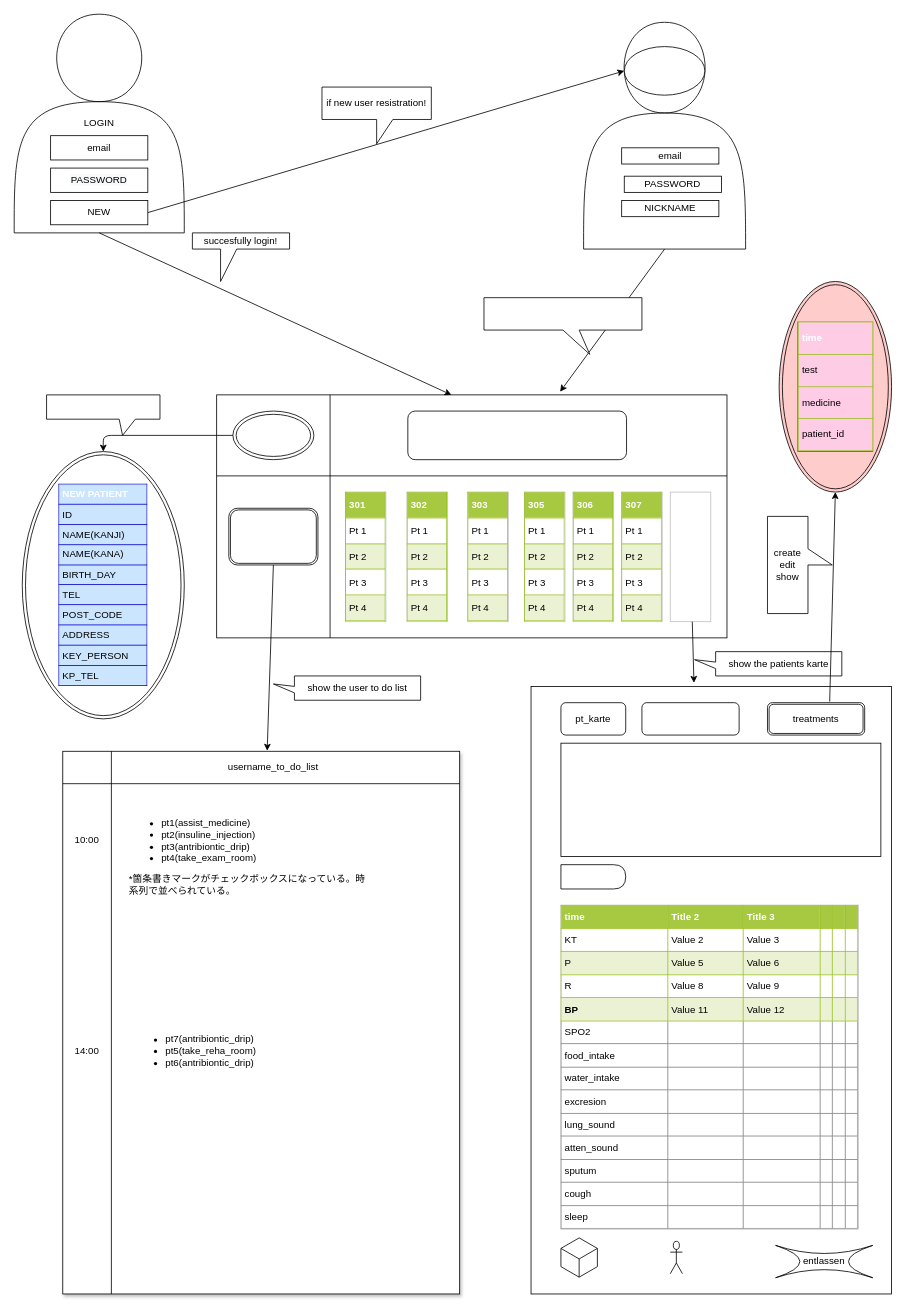
This 906x1314 diagram has some shape labels left out. Each missing label, with the centre of its shape:
308 Pt 1 Pt 2 Pt 3 Pt 4: (690,556)
basic_info: (690,718)
blood tests: (578,1257)
create new patient: (103,414)
NEW USER: (664,70)
new_patient_adm: (273,435)
period: (593,876)
succesfully resistration ! && login!: (562,325)
User_to_do_list: (273,536)
vital_signs_line_graph: (720,799)
WORD_INFO: (517,435)
X-ray: (675,1257)
